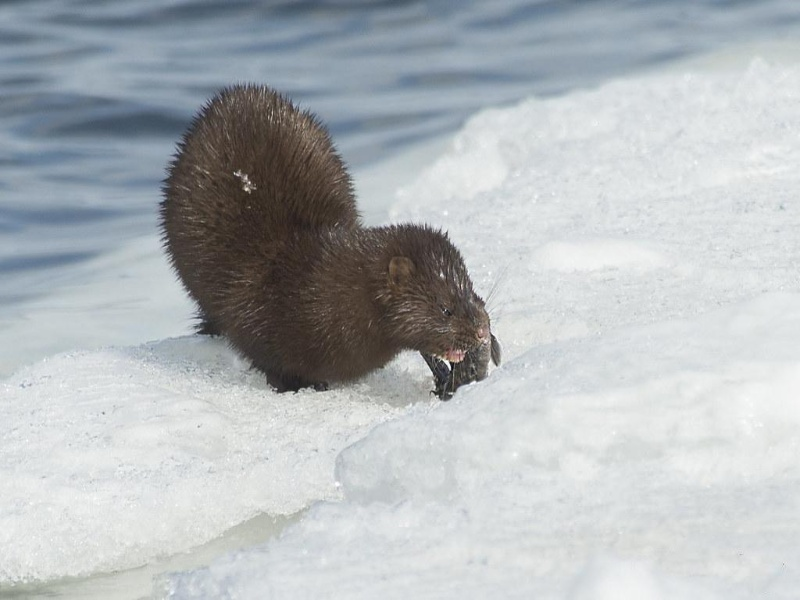minkish: (158, 82, 491, 397)
